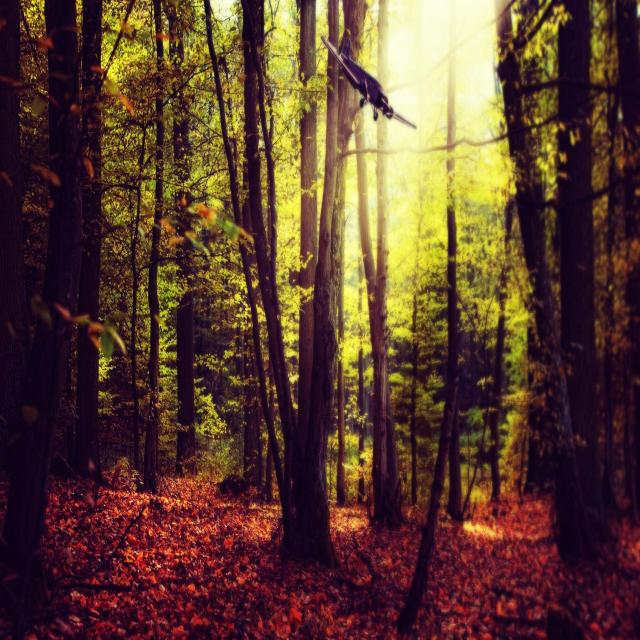airplane: (320, 31, 417, 130)
